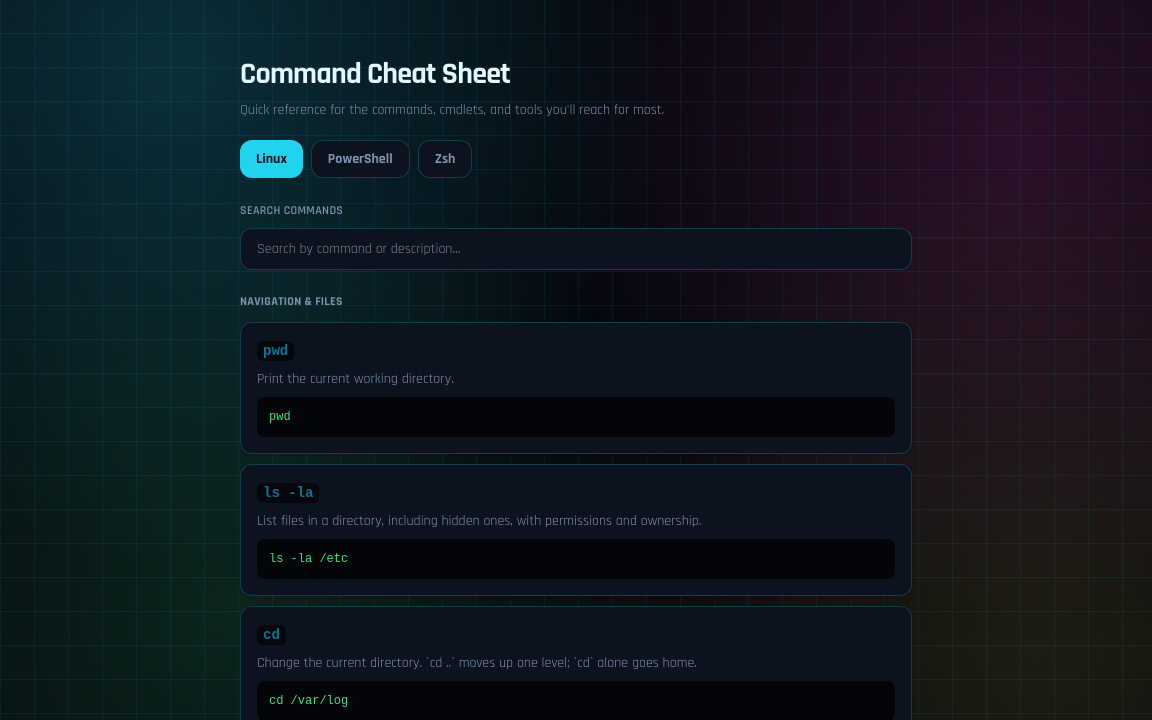
Test case: Cheat Sheet page › switches shells when a different tab is clicked
Click the tab "PowerShell" at (360, 159), box 311,140 -> 410,178
(page scrolled)
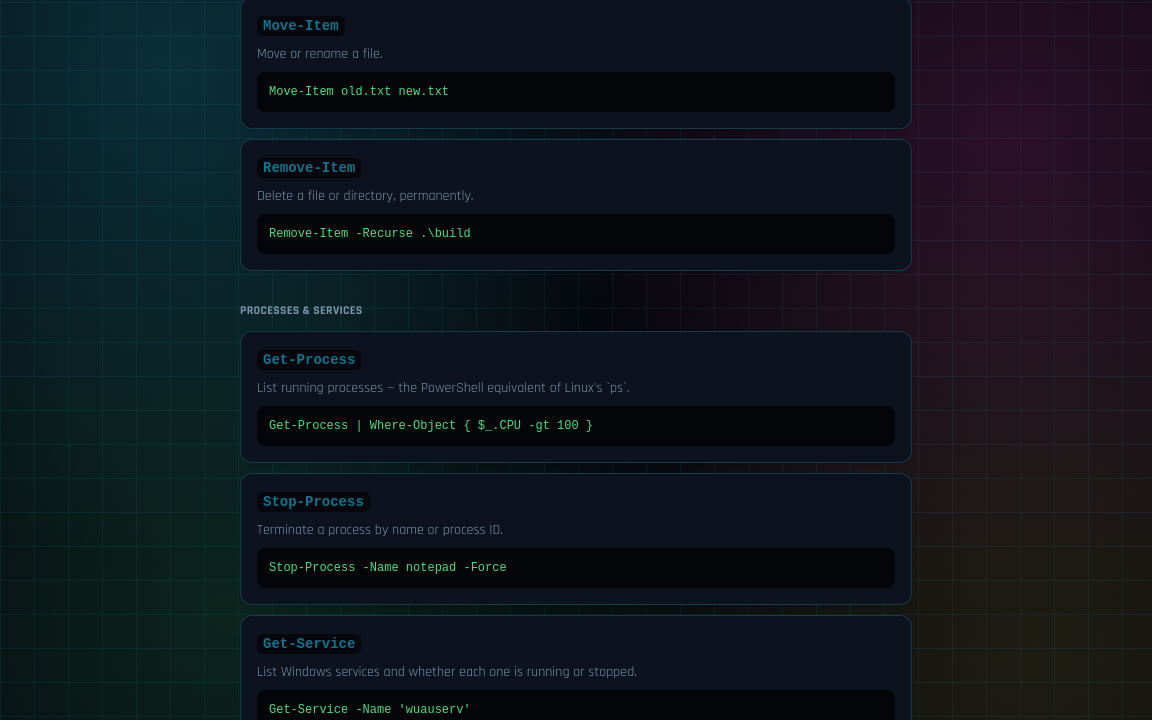
Now the text "Get-Process" is shown, box 257,350 -> 361,370
